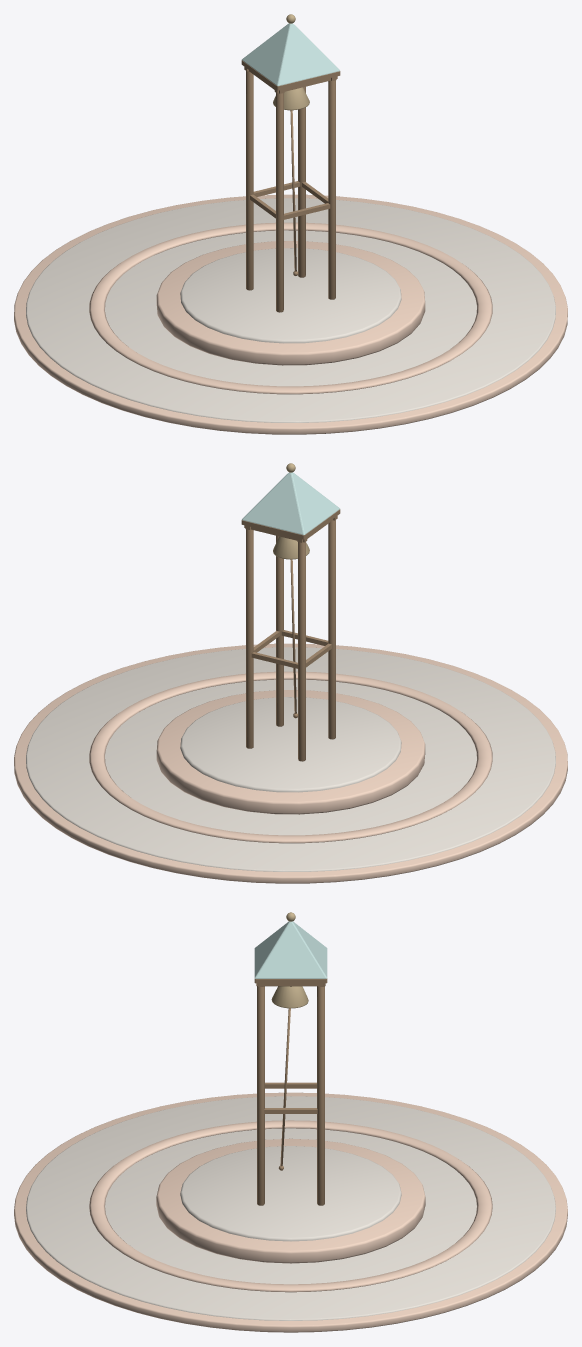
Rendered from structures_Plaza_Round_7x7_v02.glb.
3 views of the same model, one above another, from view 1: azimuth 30°, elevation 25°; view 2: azimuth 150°, elevation 25°; view 3: azimuth 270°, elevation 25° (orthographic).
Visible parts, largest first — view 1: Plaza_Floor, Plaza_Dais_Top, Plaza_Rim, Plaza_Dais, Plaza_Ring, Tower_Roof, Tower_Post_1, Tower_Post_3, Tower_Post_2, Tower_Post_4; view 2: Plaza_Floor, Plaza_Dais_Top, Plaza_Rim, Plaza_Dais, Plaza_Ring, Tower_Roof, Tower_Post_2, Tower_Post_4, Tower_Post_1, Tower_Post_3; view 3: Plaza_Floor, Plaza_Dais_Top, Plaza_Rim, Plaza_Dais, Plaza_Ring, Tower_Roof, Tower_Post_3, Tower_Post_4, Tower_Bell_Body.
Part boxes in pixels (<box>): Plaza_Floor: <box>26,198,555,422</box>; Plaza_Dais_Top: <box>180,248,401,343</box>; Plaza_Rim: <box>14,194,567,434</box>; Plaza_Dais: <box>156,241,425,365</box>; Plaza_Ring: <box>89,222,492,394</box>; Tower_Roof: <box>242,23,339,86</box>; Tower_Post_1: <box>276,93,283,312</box>; Tower_Post_3: <box>328,80,335,299</box>; Tower_Post_2: <box>246,71,253,290</box>; Tower_Post_4: <box>298,86,305,277</box>; Plaza_Floor: <box>26,647,555,871</box>; Plaza_Dais_Top: <box>180,697,401,792</box>; Plaza_Rim: <box>14,643,567,883</box>; Plaza_Dais: <box>156,690,425,814</box>; Plaza_Ring: <box>89,671,492,843</box>; Tower_Roof: <box>242,472,339,535</box>; Tower_Post_2: <box>298,542,305,761</box>; Tower_Post_4: <box>246,529,253,748</box>; Tower_Post_1: <box>328,520,335,739</box>; Tower_Post_3: <box>276,535,283,726</box>; Plaza_Floor: <box>26,1096,555,1320</box>; Plaza_Dais_Top: <box>180,1146,401,1241</box>; Plaza_Rim: <box>14,1092,567,1332</box>; Plaza_Dais: <box>156,1138,425,1263</box>; Plaza_Ring: <box>89,1120,492,1292</box>; Tower_Roof: <box>254,921,327,978</box>; Tower_Post_3: <box>257,986,264,1205</box>; Tower_Post_4: <box>317,986,324,1205</box>; Tower_Bell_Body: <box>271,986,308,1008</box>.
Size of the model in its own units: 7 by 4.23 by 7.
